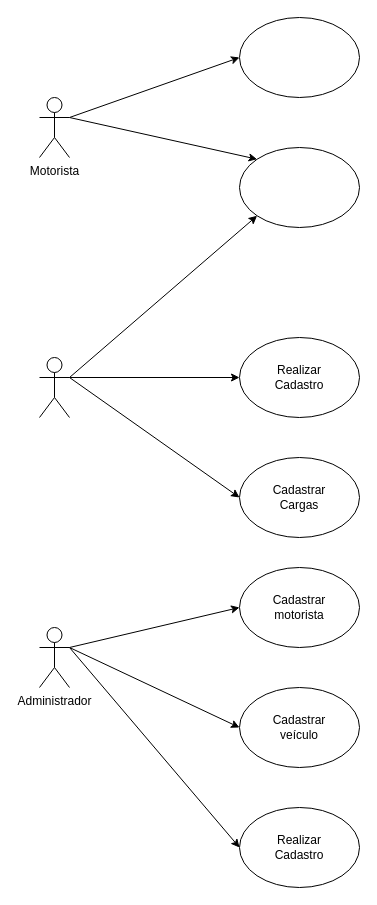
Some shapes in this 377 by 905 pixel diagram are drawn without their labels. Here are the shapes that lost their labels. From the top down, the centre of each, then its label:
(299,57): Altera carga
(299,187): Vizualizar Cargas
(54,387): Demandante
